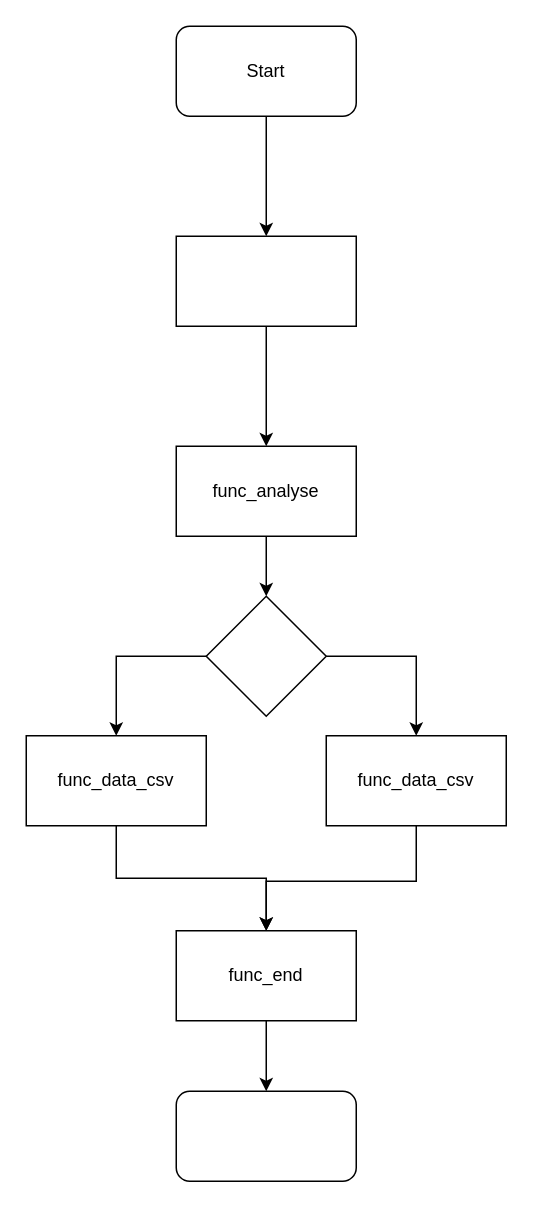
This 533x1208 diagram has some shape labels left out. Here are the shapes that lost their labels. From the top down, the centre of each, then its label:
At (265,280): "func_check".
At (265,655): "Datenbank".
At (265,1135): "Ende".
